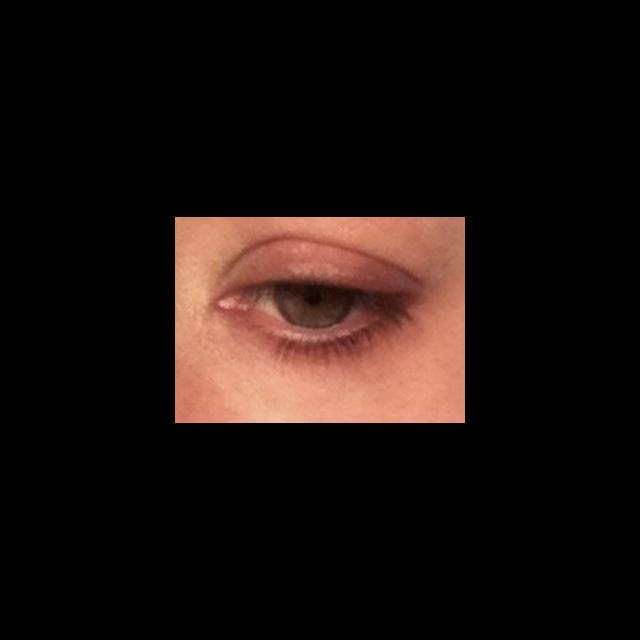eye: (246, 283, 375, 330)
iris: (277, 285, 352, 327)
